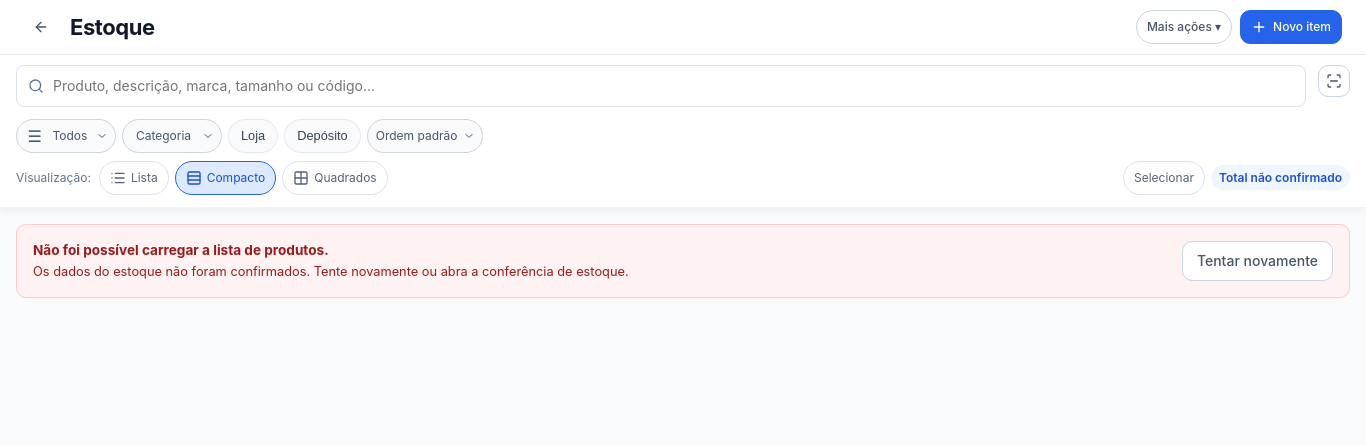
Inventory search counts and mobile progress › does not report a completed or empty search when fetching grades fails
The image size is (1366, 445).
Expected: the message with class "list-load-error" is shown, x1=16 y1=224 x2=1350 y2=298
Click the button "Tentar novamente" at coordinates (1257, 261), box x1=1182 y1=241 x2=1333 y2=281
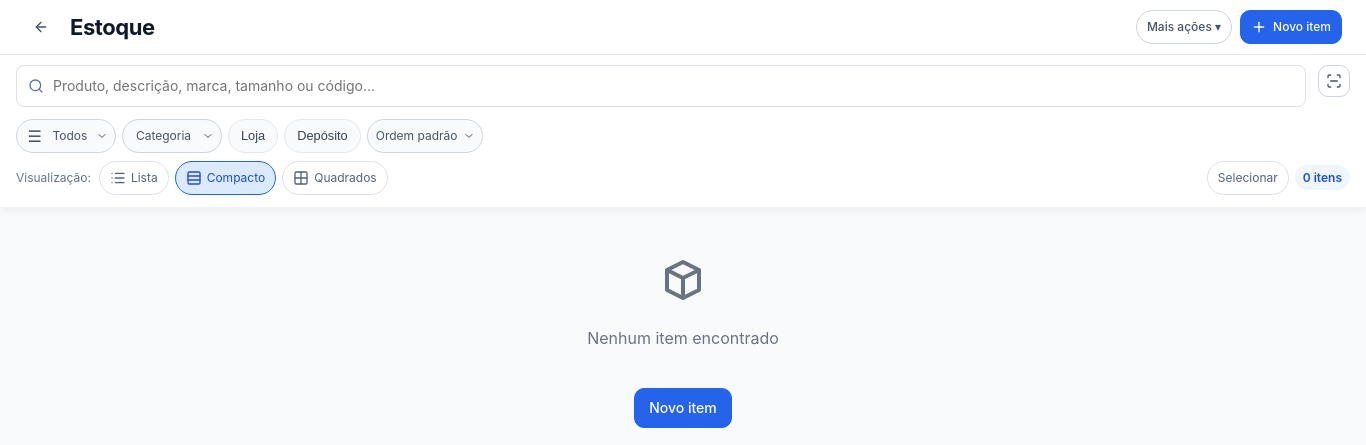
Expected: the message with class "search-result-count" reads "0 itens", x1=1303 y1=170 x2=1342 y2=185
Expected: the element with class "empty-state" shows "Nenhum item encontrado", x1=587 y1=328 x2=779 y2=348
